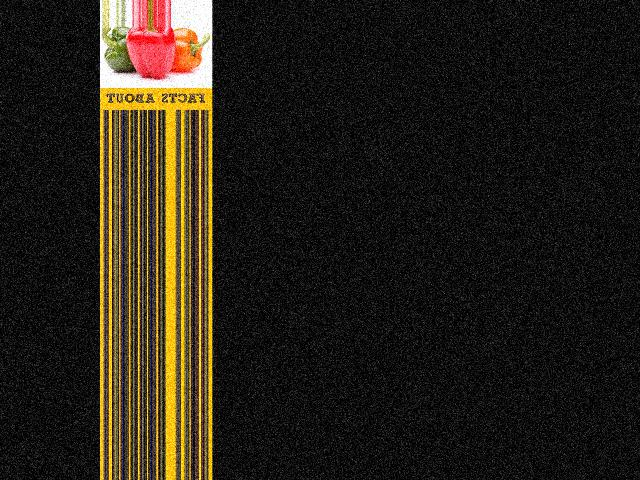bell_pepper: (101, 27, 129, 79)
